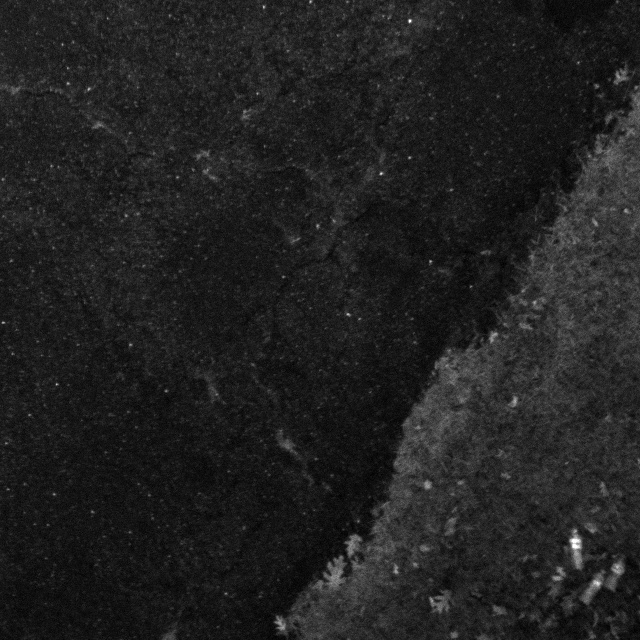bottle: (566, 527, 593, 573), (582, 566, 602, 609)
